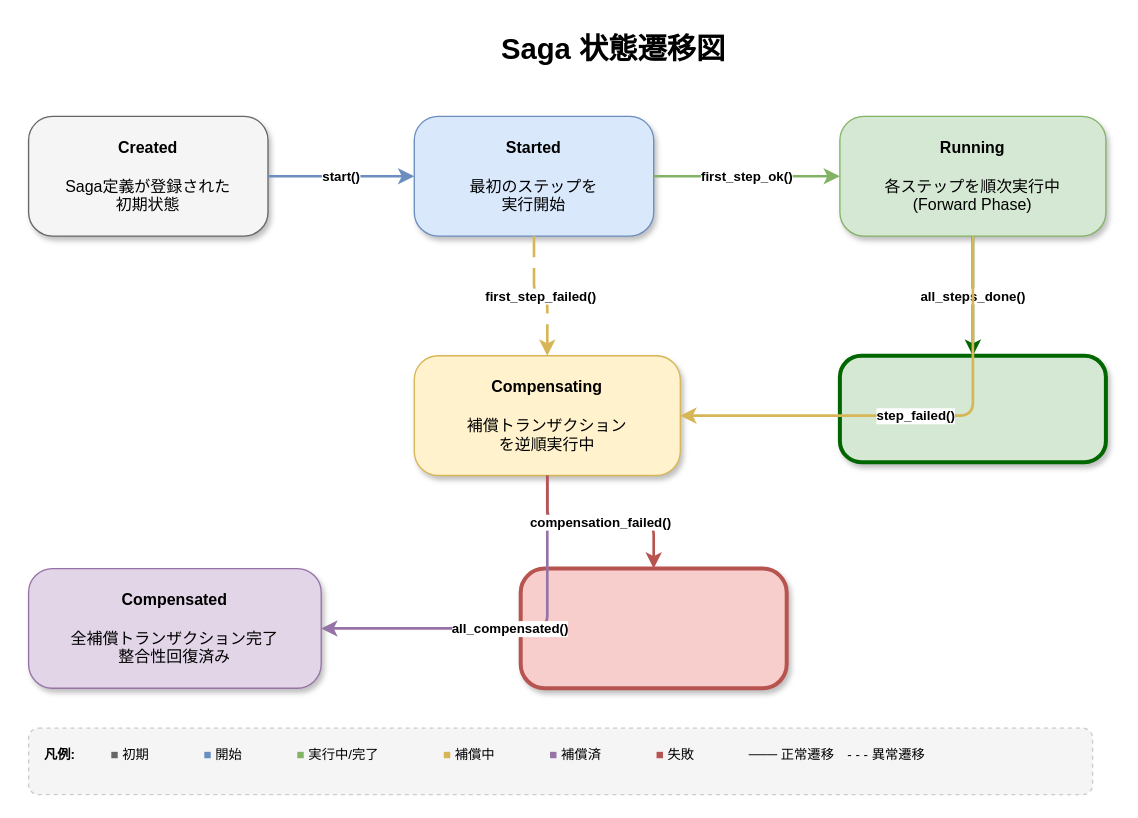
Image size: 1138x818. Some labels were removed from this diagram. The centre of each missing label's shape, as x and y in pixels:
Completed 全ステップ正常完了: (973,410)
Failed 補償も失敗 手動介入必要: (654,630)
